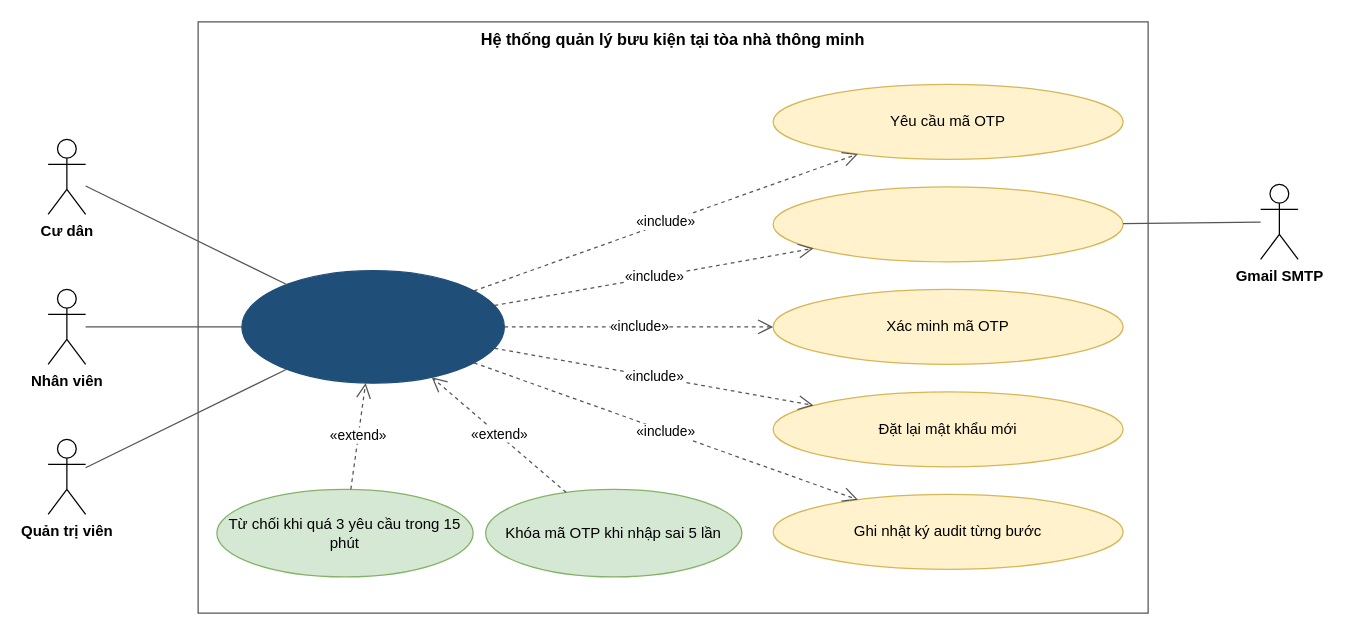
This 1345x635 diagram has some shape labels left out. Each missing label, with the centre of its shape:
"Gửi OTP đến email đã đăng ký" goes at [947,224].
"Quên mật khẩu bằng OTP" goes at [372,326].
